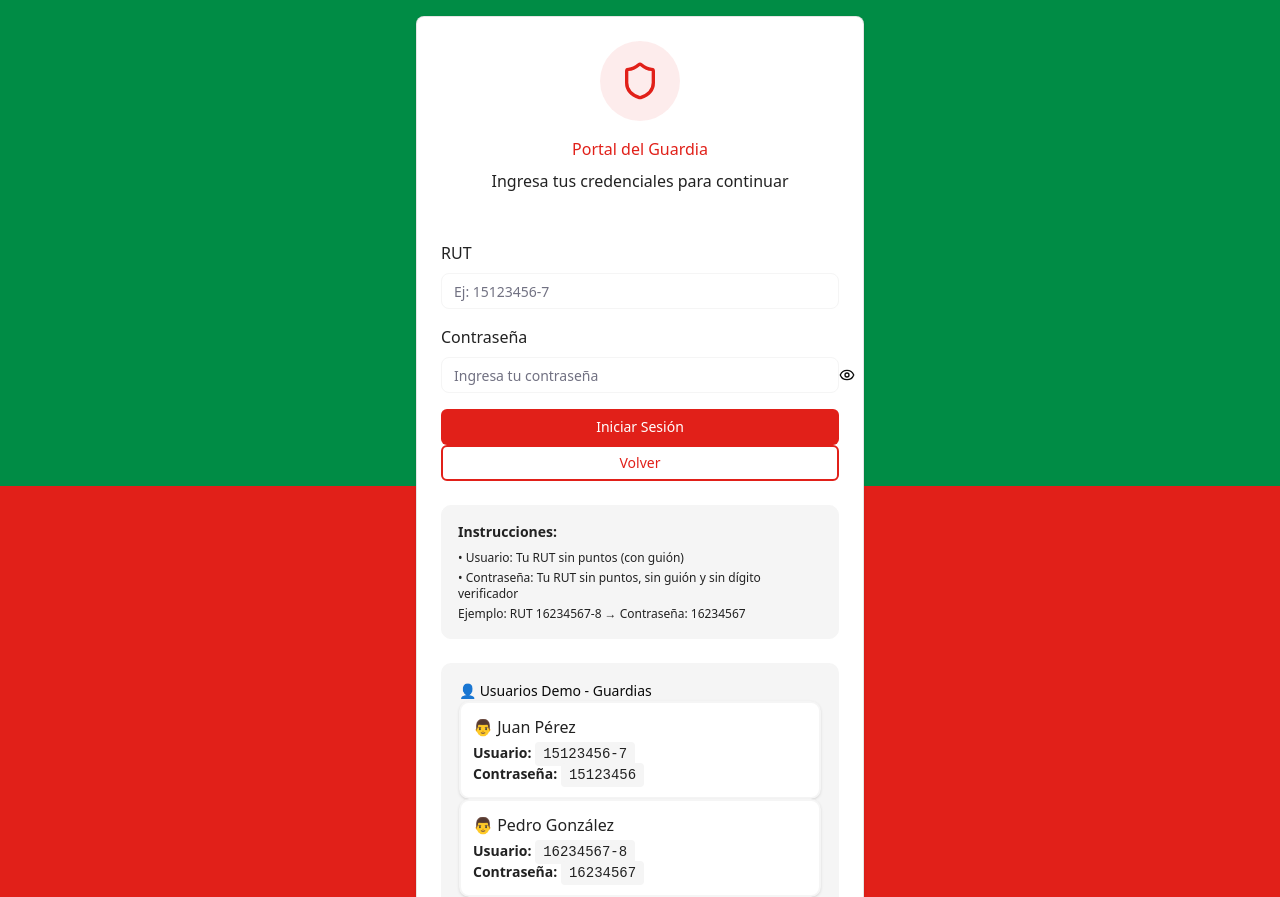
Scenario: Sistema de Gestión de Beneficios - Login › Login guardia inactivo
In the field with placeholder "Ej: 15123456-7": coordinates (640, 291) 441,273 -> 839,309, type "14000000-0"
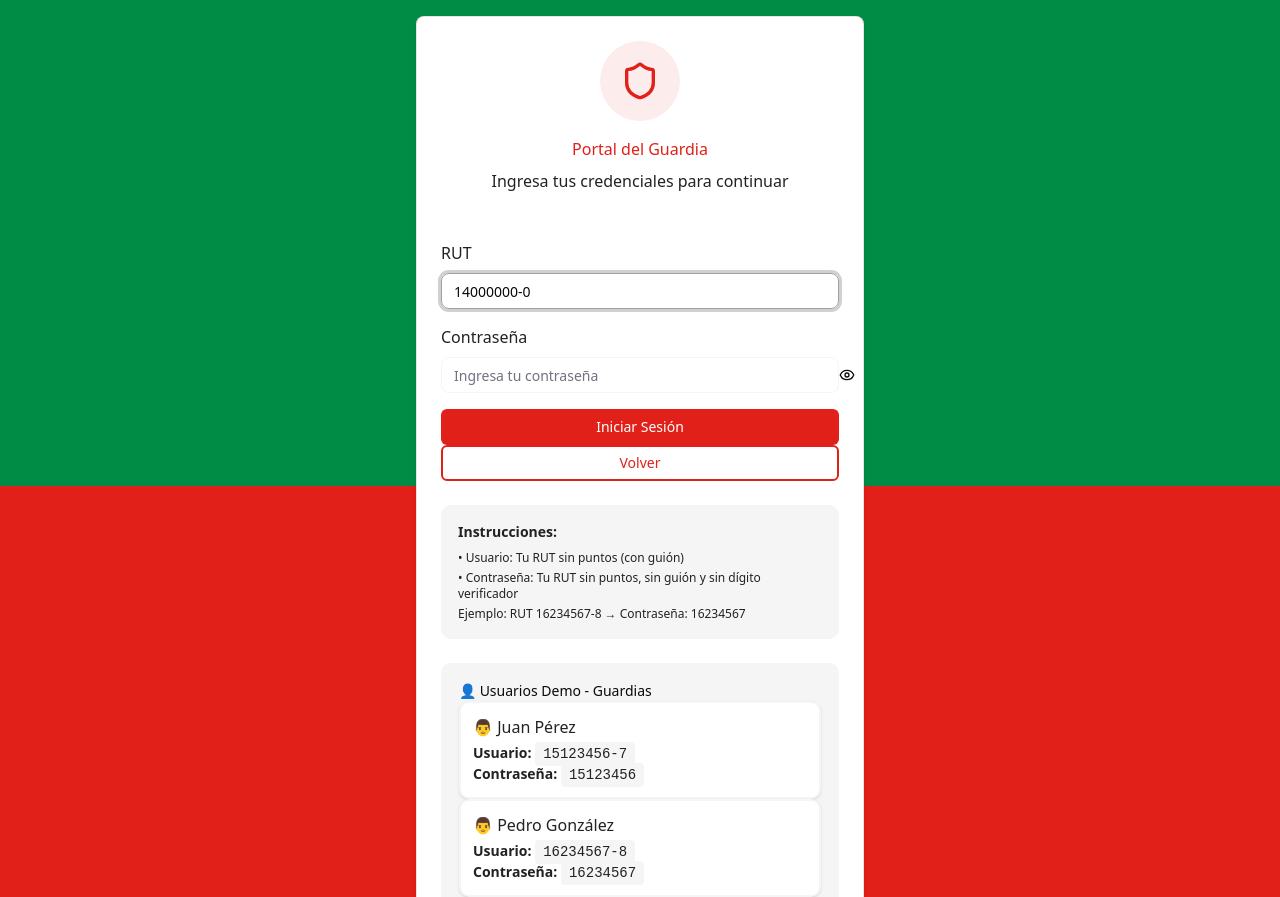
In the password field with placeholder "Ingresa tu contraseña": coordinates (640, 375) 441,357 -> 839,393, type "correcta"
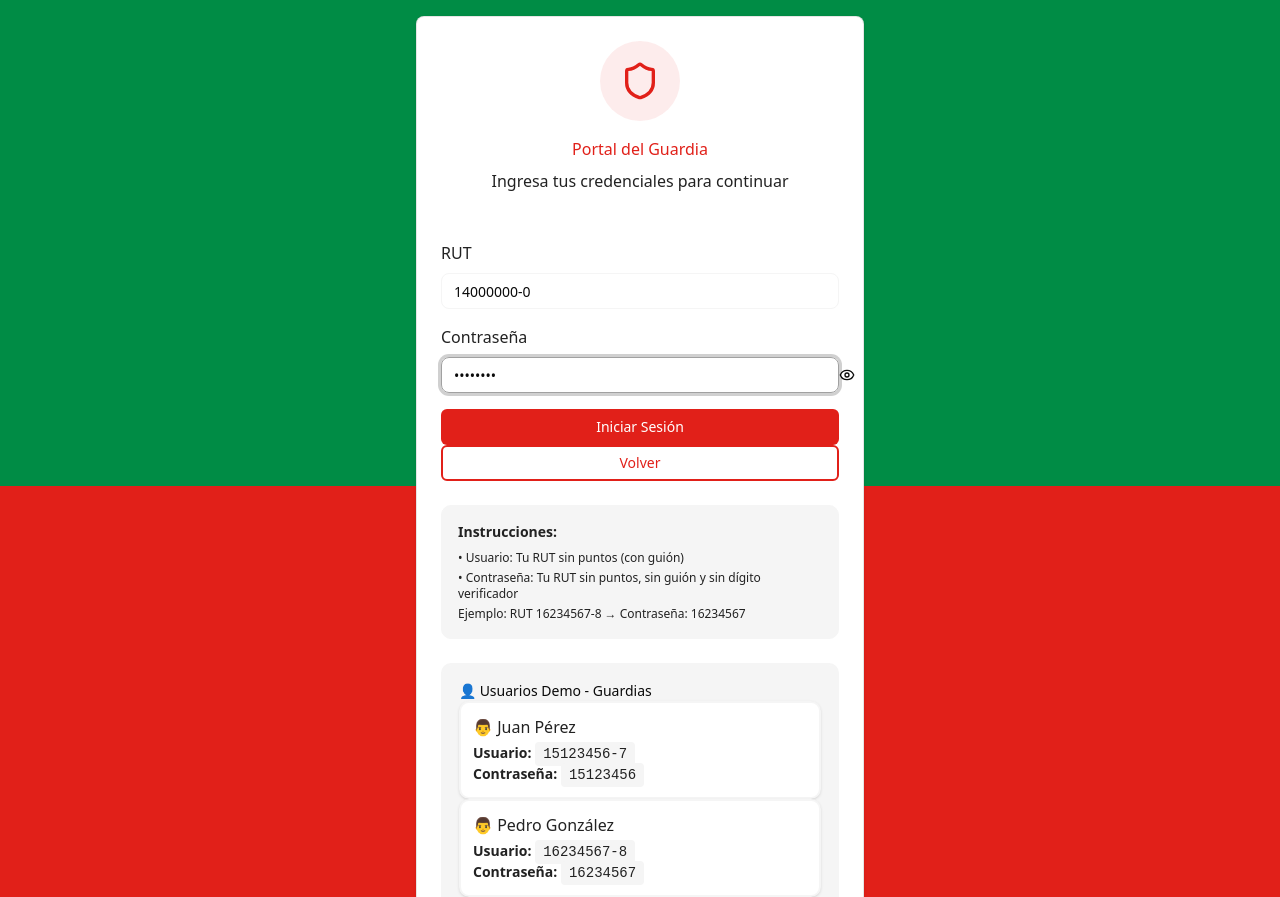
Click the button "Iniciar Sesión": coordinates (640, 427) 441,409 -> 839,445
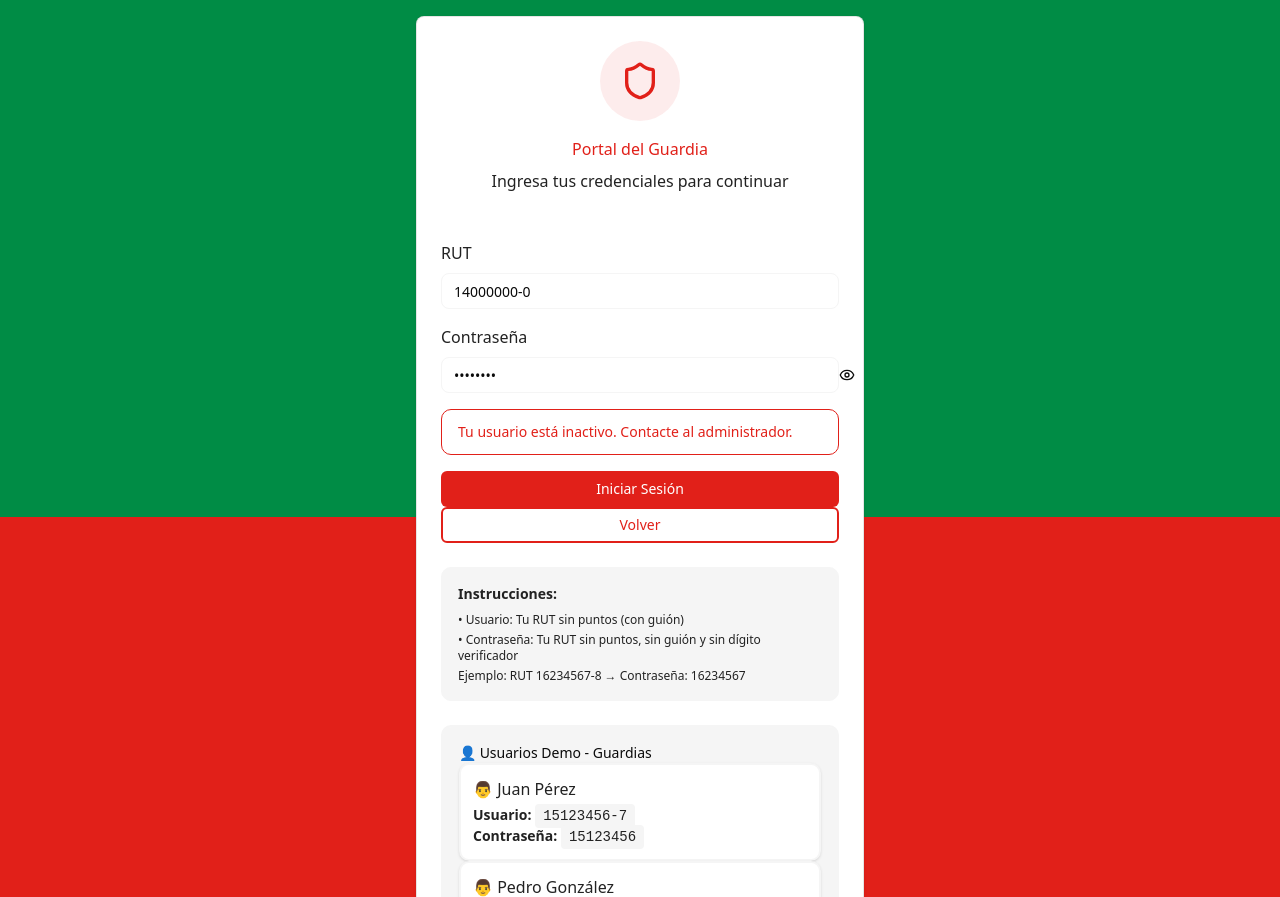
Result: the text "Tu usuario está inactivo. Contacte al administrador." is shown at 458,422 -> 822,442
